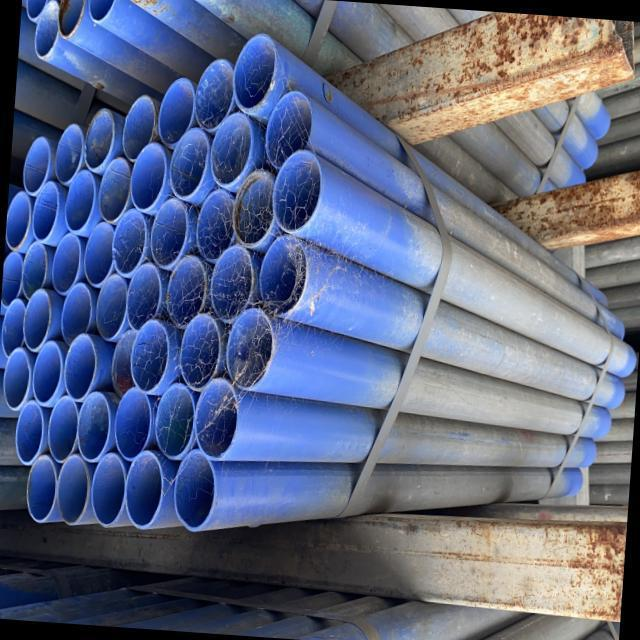pipe: (269, 146, 325, 236), (222, 304, 278, 393), (256, 232, 311, 321), (262, 88, 316, 173), (170, 447, 222, 535), (190, 374, 242, 462), (206, 242, 258, 326), (228, 166, 280, 250), (230, 30, 280, 115), (121, 446, 168, 530), (176, 310, 224, 392), (162, 250, 210, 332), (207, 110, 256, 190), (152, 381, 199, 461), (126, 316, 172, 396), (193, 186, 240, 264), (192, 56, 238, 134), (166, 125, 212, 202), (87, 450, 131, 530), (111, 382, 155, 462), (127, 138, 171, 215), (147, 194, 190, 272), (122, 258, 164, 336), (154, 75, 197, 149), (73, 388, 114, 463), (109, 206, 150, 279), (119, 92, 159, 165), (54, 452, 92, 526), (61, 330, 100, 402), (44, 392, 82, 464), (57, 280, 95, 352), (92, 270, 130, 342), (95, 154, 134, 223), (23, 452, 59, 524), (108, 327, 144, 399), (61, 166, 98, 236), (80, 105, 118, 173), (29, 338, 66, 407), (81, 219, 117, 289), (20, 285, 54, 353), (13, 396, 46, 466), (29, 177, 62, 245), (1, 344, 34, 411), (52, 121, 86, 186), (50, 230, 83, 296), (20, 134, 52, 197), (19, 239, 50, 303), (0, 294, 30, 360), (4, 188, 33, 252), (0, 249, 26, 311)
